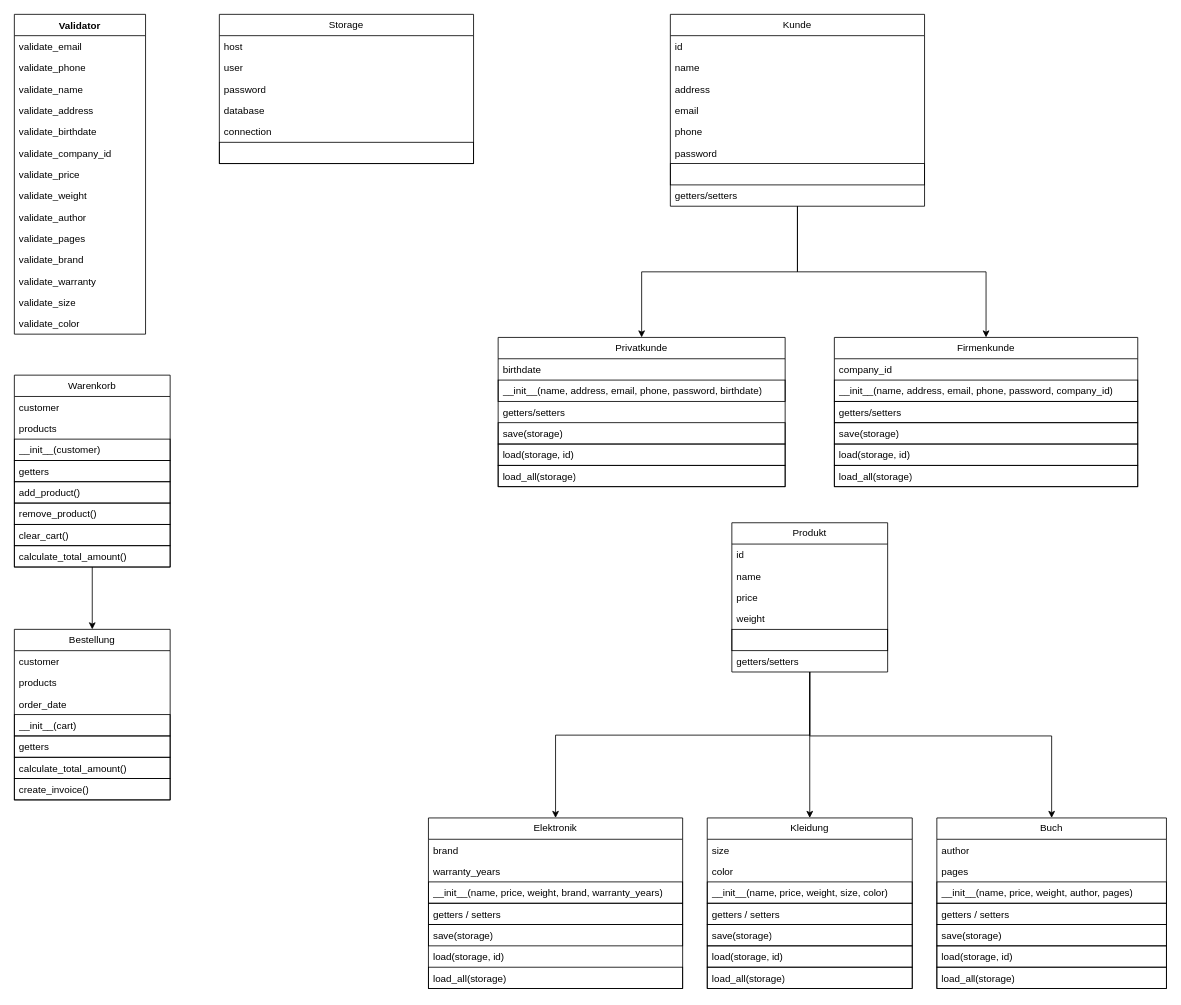
Some shapes in this 1181 by 1005 pixel diagram are drawn without their labels. Here are the shapes that lost their labels. From the top down, the centre of each, then its label:
[346,152]: connect/disconnect/queries
[797,174]: __init__(id, name, address, email, phone, password)
[809,640]: __init__(id, name, price, weight)
